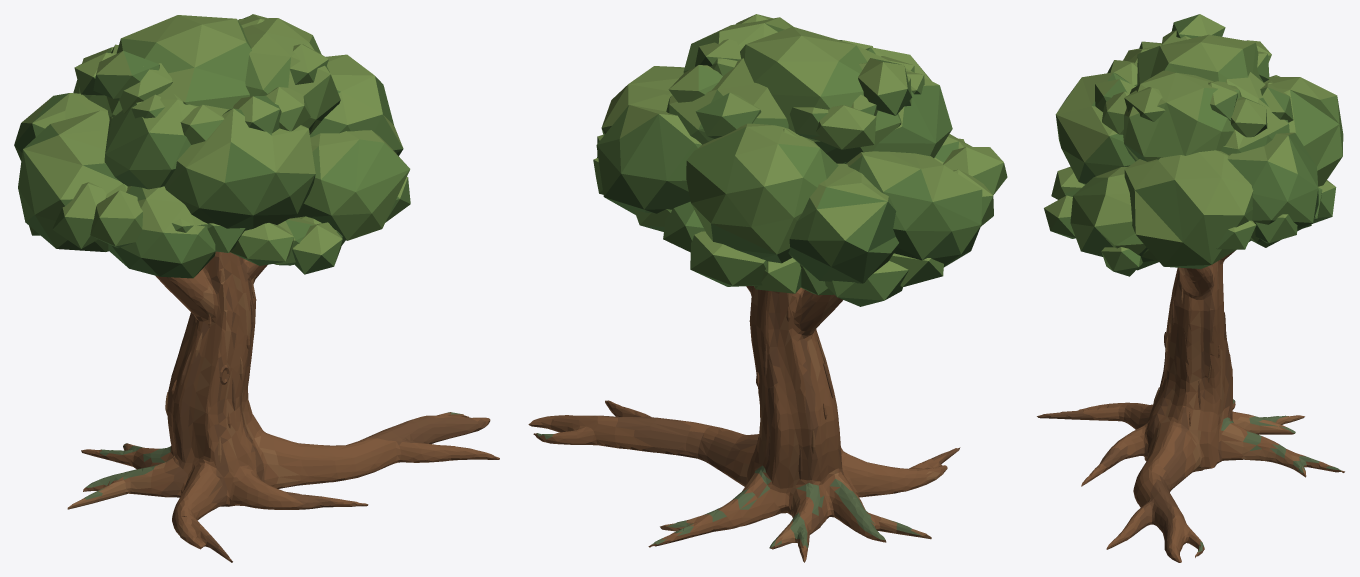
The model's file is tree_root_oak.glb.
The picture shows the model from 3 angles, left to right: view 1: azimuth 30°, elevation 25°; view 2: azimuth 150°, elevation 25°; view 3: azimuth 270°, elevation 25°; orthographic projection. The views are drawn at different scales.
Parts seen in each view (by area): view 1: tree_root_oak; view 2: tree_root_oak; view 3: tree_root_oak.
Boxes of the visible parts, box(x1,y1,x2,y2) form: tree_root_oak: box(14, 14, 499, 562); tree_root_oak: box(528, 14, 1007, 562); tree_root_oak: box(1037, 14, 1344, 562).
Size of the model in its own units: 3.22 by 3.2 by 2.18.
